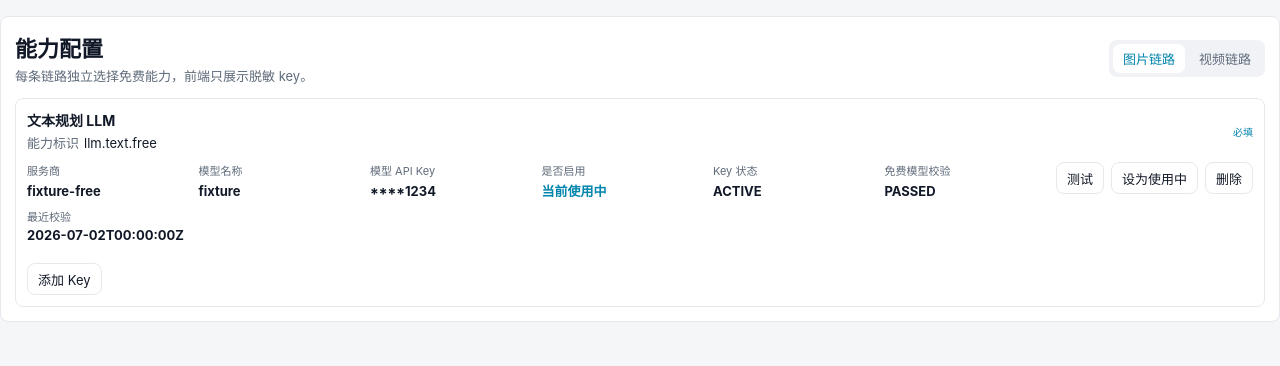
Test: component interactions › shows a safe error when deleting the selected key is rejected
The width and height of the screenshot is (1280, 366).
Click the button "删除": (1229, 178) [1205,162,1253,194]
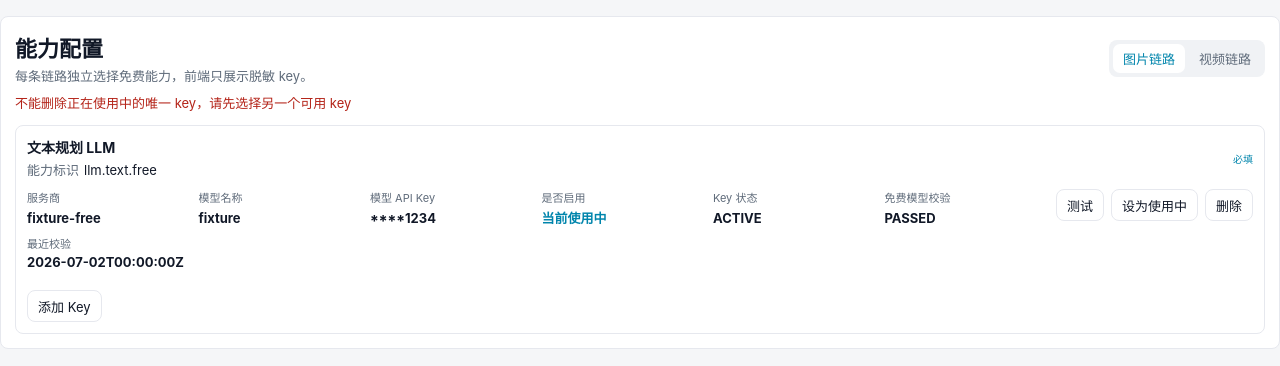
Now the text "不能删除正在使用中的唯一 key，请先选择另一个可用 key" is shown, box [15,95,351,111]
